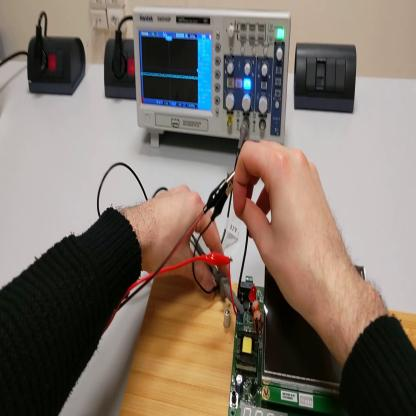hand: (234, 138, 353, 336), (130, 186, 229, 302)
low voltage board: (227, 224, 374, 414)
oscilloscope: (132, 6, 293, 154)
oscilloscope probe tip: (196, 242, 247, 321)
socket: (29, 39, 87, 98), (106, 40, 136, 103)
working area: (120, 278, 416, 415)
